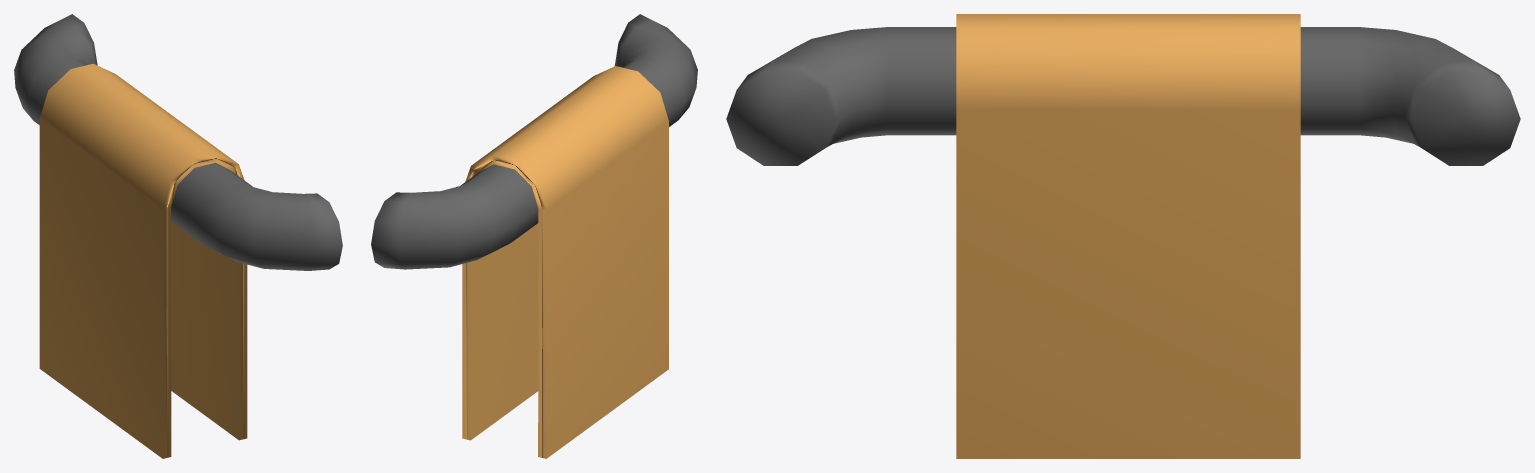
The model's file is towel.fbx.
3 views of the same model, side by side, from view 1: azimuth 30°, elevation 25°; view 2: azimuth 150°, elevation 25°; view 3: azimuth 270°, elevation 25° (orthographic). The views are drawn at different scales.
Parts seen in each view (by area): view 1: towel, pipe; view 2: towel, pipe; view 3: towel, pipe.
Boxes of the visible parts, left/top/right/bottom form: towel: left=39, top=63, right=247, bottom=458; pipe: left=14, top=14, right=342, bottom=270; towel: left=462, top=66, right=668, bottom=458; pipe: left=371, top=14, right=697, bottom=269; towel: left=956, top=14, right=1300, bottom=458; pipe: left=726, top=27, right=1520, bottom=165.
Bounding box in the file's own units: 14.28 × 40.73 × 71.81.
